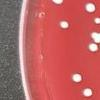white: (81, 86, 95, 99), (70, 72, 84, 84), (83, 2, 96, 14), (89, 30, 100, 43), (88, 42, 99, 54), (59, 20, 70, 30), (52, 0, 63, 6), (93, 16, 100, 24)
